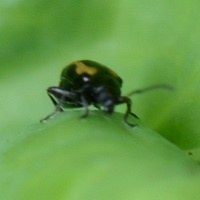insect: (40, 60, 139, 126)
